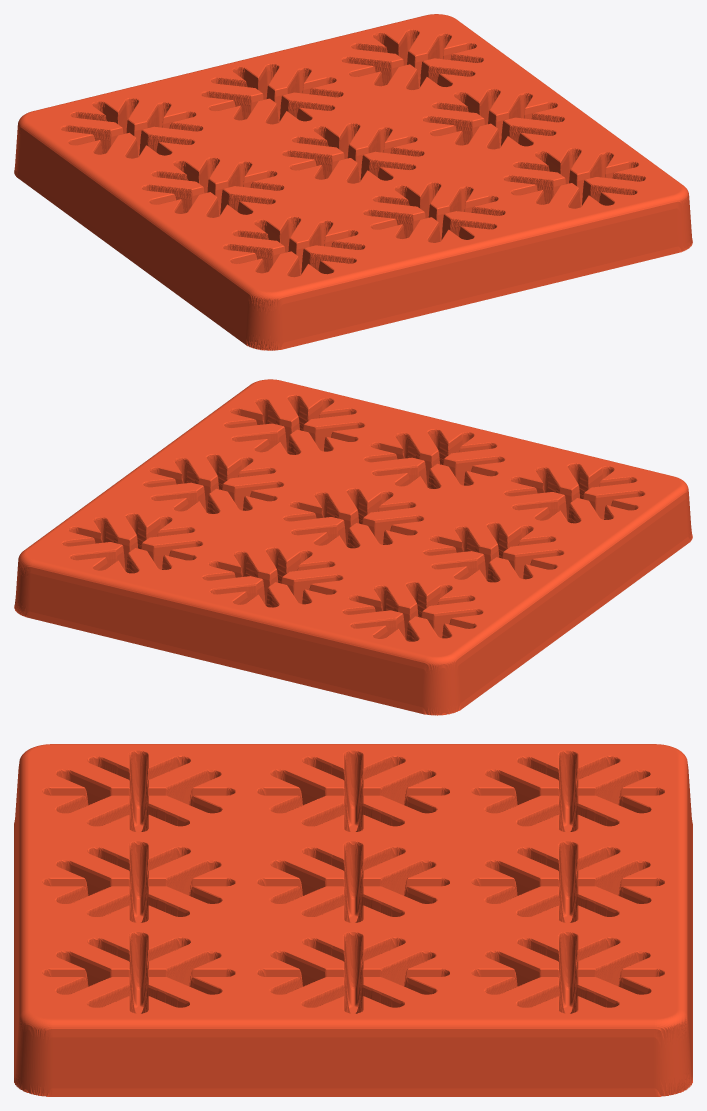
Rendered from mold.glb.
3 views of the same model, one above another, from view 1: azimuth 30°, elevation 25°; view 2: azimuth 150°, elevation 25°; view 3: azimuth 270°, elevation 25° (orthographic). The views are drawn at different scales.
Parts seen in each view (by area): view 1: geometry_0; view 2: geometry_0; view 3: geometry_0.
Part boxes in pixels (box(x1,y1,x2,y2)): geometry_0: box(14, 14, 692, 350); geometry_0: box(14, 379, 692, 715); geometry_0: box(14, 744, 692, 1096).
Bounding box in the file's own units: 0.1595 × 0.0185 × 0.1595.
